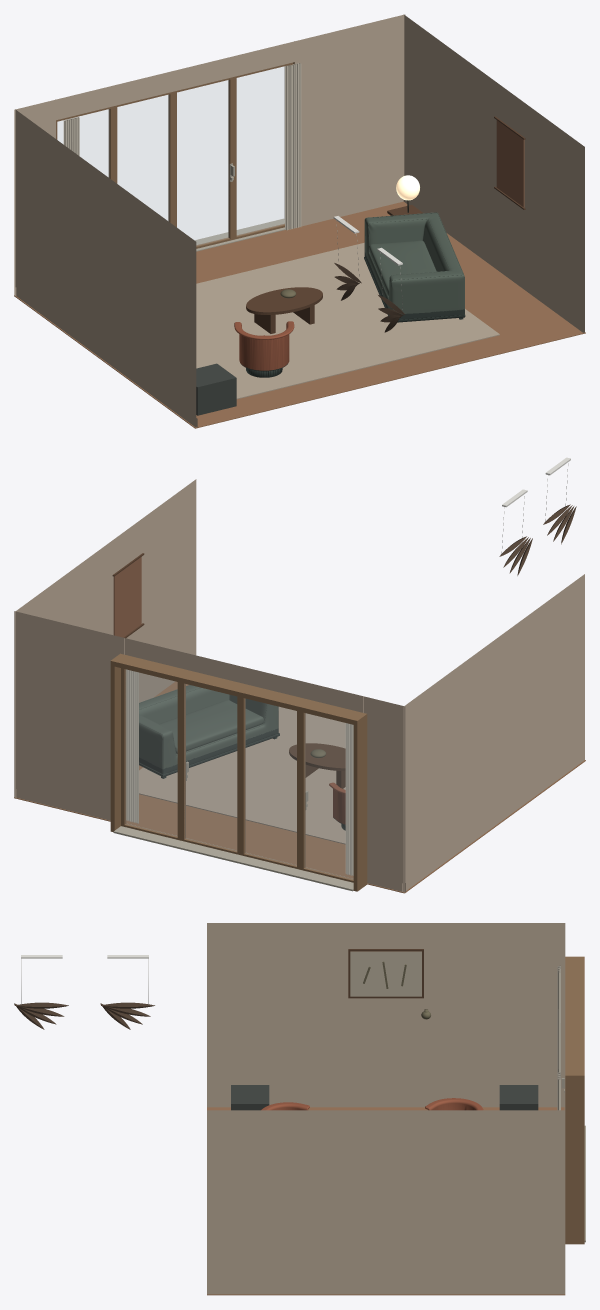
Rendered from great-3.glb.
3 renders of one model, top to bottom at view 1: azimuth 30°, elevation 25°; view 2: azimuth 150°, elevation 25°; view 3: azimuth 270°, elevation 25°, orthographic.
Visible parts, largest first — view 1: DESIGN | great removable wall finish, DESIGN | Great room primary ground, DESIGN | great floor finish, DESIGN | Great room sofa facing conversation, DESIGN | R10 bifold panel 4 glass, DESIGN | R10 bifold panel 3 glass, DESIGN | R10 bifold panel 2 glass, DESIGN | Great room soft window edge.001, DESIGN | Required Bellustar swivel chair one, DESIGN | Great room linen hanging, DESIGN | R10 bifold panel 1 glass, DESIGN | Great room low stone display (+7 smaller); view 2: DESIGN | great removable wall finish, DESIGN | Great room primary ground, DESIGN | R10 bifold panel 3 glass, DESIGN | R10 bifold panel 4 glass, DESIGN | R10 bifold panel 2 glass, DESIGN | Great room sofa facing conversation, DESIGN | R10 bifold panel 1 glass, DESIGN | great floor finish, DESIGN | R10 garden opening head, DESIGN | R10 garden opening jamb, DESIGN | R10 drained garden sill, DESIGN | Great room soft window edge.001 (+13 smaller); view 3: DESIGN | great removable wall finish, DESIGN | R10 garden opening jamb.001, DESIGN | R10 quiet mineral artwork, DESIGN | R10 garden opening head, DESIGN | great floor finish, DESIGN | Great room low stone display.001, DESIGN | Great room low stone display, DESIGN | Required Flou pendant 1, DESIGN | Required Flou pendant 2, DESIGN | R10 mineral artwork slim frame, DESIGN | Required Bellustar swivel chair two.
Boxes of the visible parts, x1,y1,x2,y2 form: DESIGN | great removable wall finish: (14, 14, 584, 427); DESIGN | Great room primary ground: (196, 242, 499, 399); DESIGN | great floor finish: (14, 201, 585, 428); DESIGN | Great room sofa facing conversation: (364, 212, 465, 322); DESIGN | R10 bifold panel 4 glass: (177, 80, 228, 245); DESIGN | R10 bifold panel 3 glass: (237, 66, 284, 235); DESIGN | R10 bifold panel 2 glass: (117, 95, 168, 220); DESIGN | Great room soft window edge.001: (285, 63, 301, 230); DESIGN | Required Bellustar swivel chair one: (234, 321, 294, 377); DESIGN | Great room linen hanging: (496, 120, 524, 207); DESIGN | R10 bifold panel 1 glass: (57, 109, 109, 177); DESIGN | Great room low stone display: (196, 363, 236, 415); DESIGN | great removable wall finish: (14, 479, 584, 892); DESIGN | Great room primary ground: (139, 706, 345, 844); DESIGN | R10 bifold panel 3 glass: (125, 669, 177, 836); DESIGN | R10 bifold panel 4 glass: (185, 684, 236, 851); DESIGN | R10 bifold panel 2 glass: (245, 699, 296, 865); DESIGN | Great room sofa facing conversation: (139, 685, 279, 778); DESIGN | R10 bifold panel 1 glass: (305, 713, 353, 879); DESIGN | great floor finish: (14, 681, 585, 893); DESIGN | R10 garden opening head: (110, 653, 367, 725); DESIGN | R10 garden opening jamb: (353, 716, 367, 891); DESIGN | R10 drained garden sill: (113, 823, 353, 891); DESIGN | Great room soft window edge.001: (126, 669, 138, 823); DESIGN | great removable wall finish: (207, 923, 565, 1294); DESIGN | R10 garden opening jamb.001: (565, 1077, 584, 1244); DESIGN | R10 quiet mineral artwork: (350, 951, 421, 996); DESIGN | R10 garden opening head: (565, 956, 584, 1080); DESIGN | great floor finish: (207, 1107, 565, 1295); DESIGN | Great room low stone display.001: (499, 1085, 538, 1110); DESIGN | Great room low stone display: (231, 1085, 269, 1110); DESIGN | Required Flou pendant 1: (14, 1002, 68, 1029); DESIGN | Required Flou pendant 2: (100, 1002, 154, 1029); DESIGN | R10 mineral artwork slim frame: (348, 949, 423, 998); DESIGN | Required Bellustar swivel chair two: (425, 1098, 483, 1110).
Size of the model in its own units: 6 by 3.04 by 7.7.
